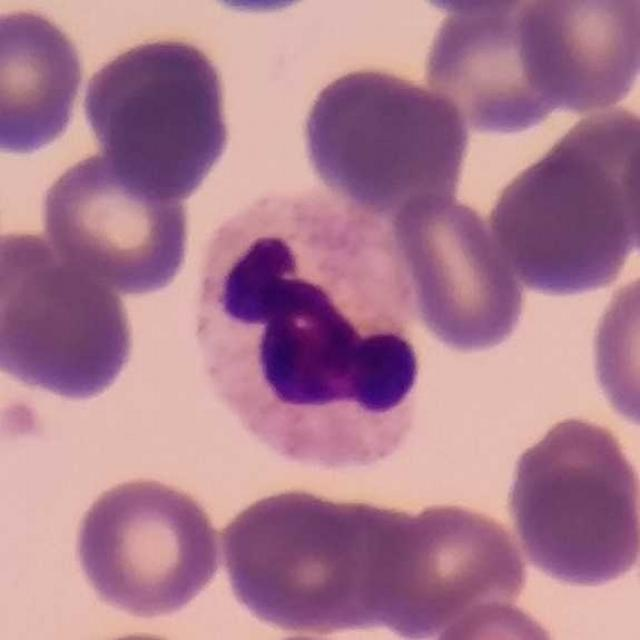Neutrophil: (187, 193, 435, 488)
RBC: (79, 28, 238, 201), (294, 60, 473, 213), (214, 482, 380, 635), (501, 408, 640, 590), (383, 188, 529, 357), (484, 143, 637, 300), (362, 496, 532, 636), (69, 471, 226, 622), (37, 147, 196, 296), (420, 1, 576, 137), (0, 259, 140, 406), (534, 107, 640, 264), (511, 0, 640, 114), (0, 4, 89, 160), (0, 225, 76, 385), (585, 265, 640, 436), (420, 596, 571, 640), (614, 111, 640, 276), (189, 0, 335, 23), (402, 0, 549, 18)
